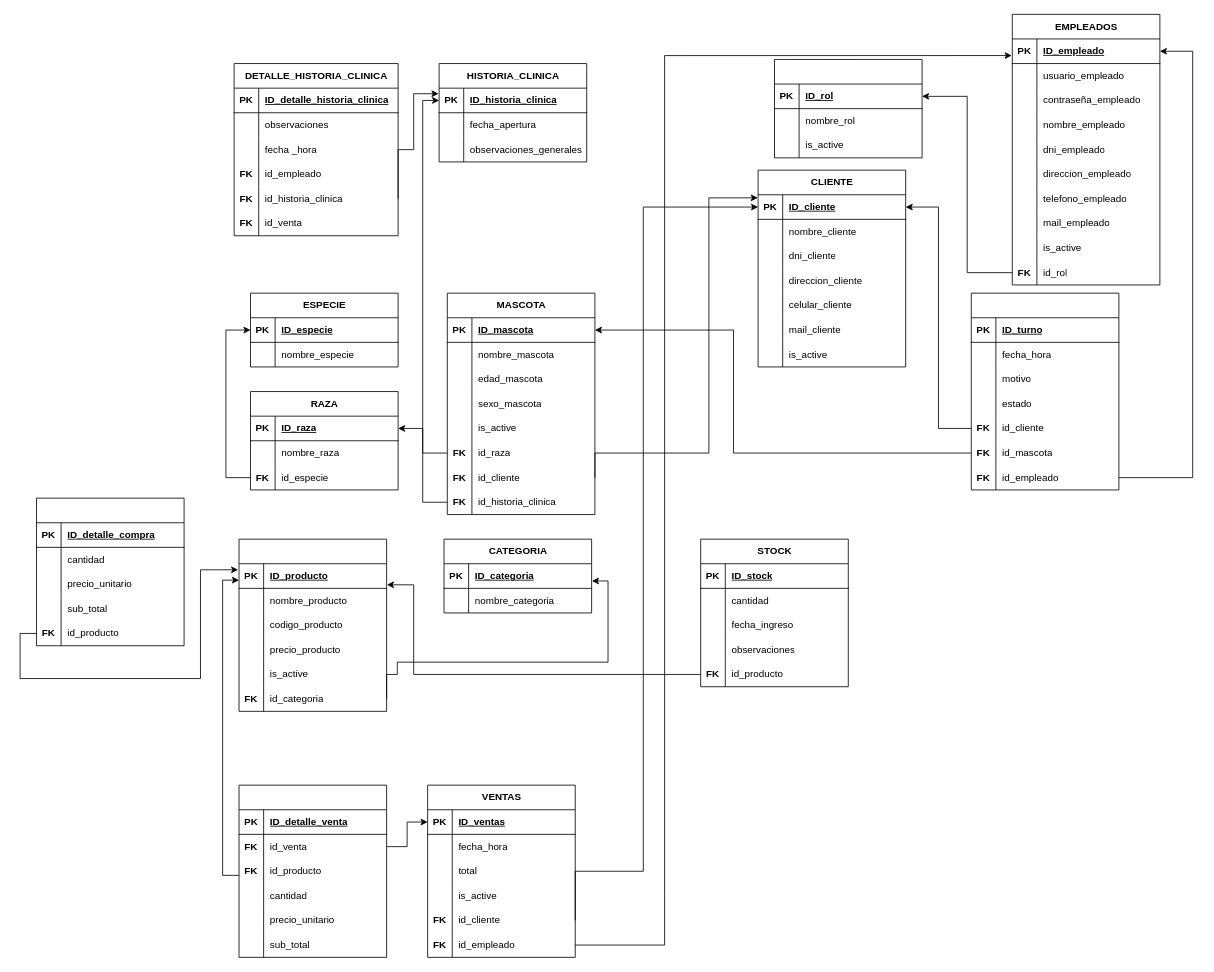
The diagram is 1214 pixels wide and 972 high, and some of its shapes have lost their labels. The box of each missing label's shape, as (x1, y1, x2, y2) in pixels:
DETALLES_COMPRAS: (36, 497, 184, 646)
DETALLES_VENTAS: (238, 784, 387, 957)
PRODUCTOS: (238, 538, 387, 711)
ROLES: (774, 59, 922, 158)
TURNOS: (970, 292, 1119, 490)
